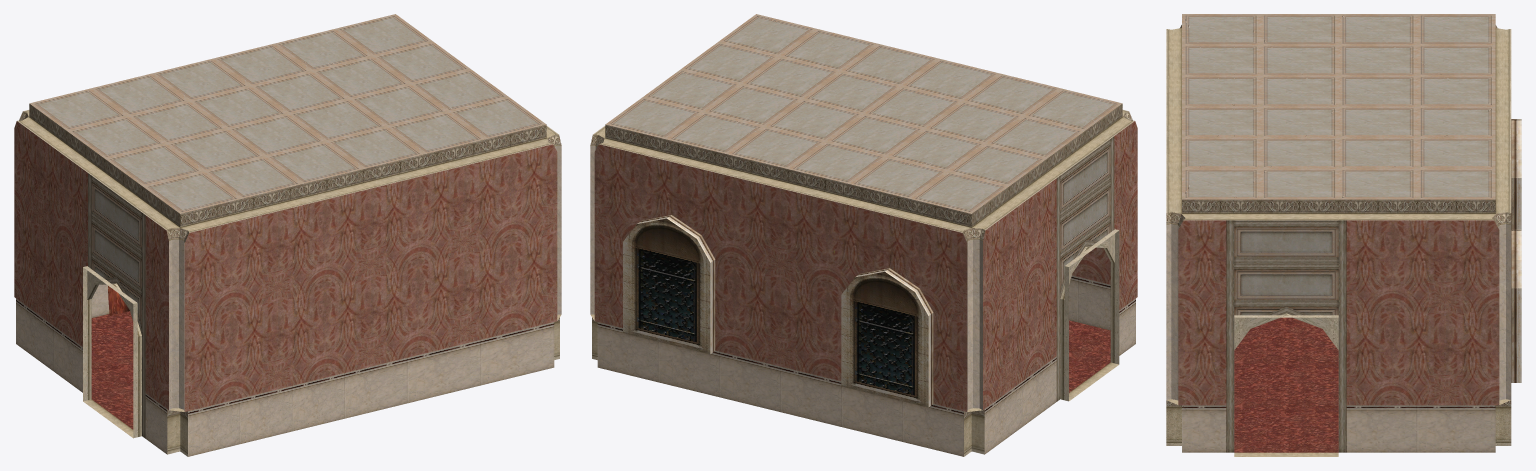
The model's file is ply_nboo_house_lg_s01_fp1_r13_room5_mesh_r13.fbx.
The picture shows the model from 3 angles, left to right: view 1: azimuth 30°, elevation 25°; view 2: azimuth 150°, elevation 25°; view 3: azimuth 270°, elevation 25°; orthographic projection. The views are drawn at different scales.
Visible parts, largest first — view 1: mesh_node; view 2: mesh_node; view 3: mesh_node.
Part boxes in pixels (x1=…): mesh_node: x1=14, y1=14, x2=561, y2=456; mesh_node: x1=590, y1=14, x2=1137, y2=456; mesh_node: x1=1166, y1=14, x2=1521, y2=456.
Bounding box in the file's own units: 9.4 × 5.2 × 6.8.
